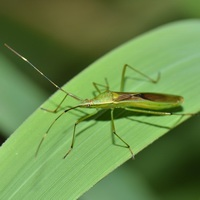insect: (0, 20, 199, 199)
